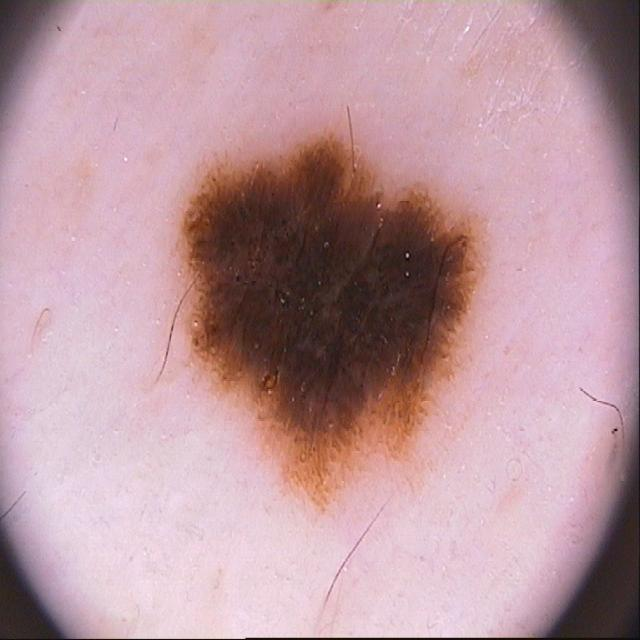Skin-Cancer Nevus: (29, 39, 597, 627)
